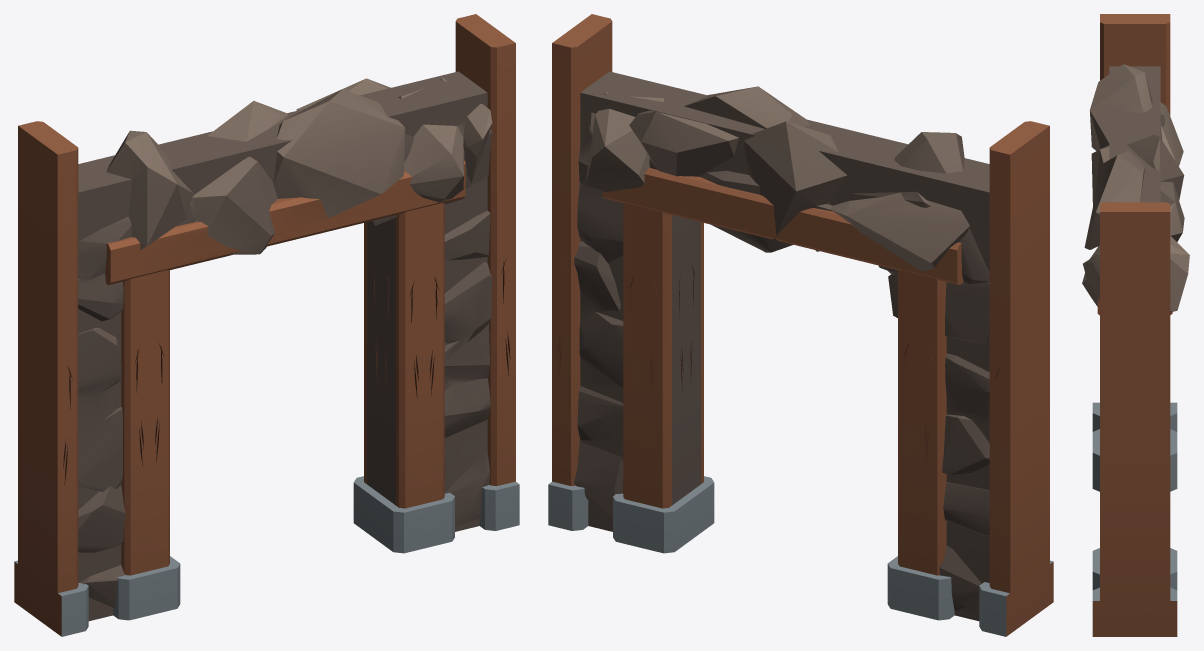
File: wall_cave_doorway_A.glb
The picture shows the model from 3 angles, left to right: view 1: azimuth 30°, elevation 25°; view 2: azimuth 150°, elevation 25°; view 3: azimuth 270°, elevation 25°; orthographic projection. The views are drawn at different scales.
Parts seen in each view (by area): view 1: Item; view 2: Item; view 3: Item.
Part boxes in pixels (x1,y1,x2,y2): Item: [14, 14, 519, 636]; Item: [548, 14, 1053, 636]; Item: [1082, 14, 1189, 636].
Bounding box in the file's own units: 4 × 4 × 0.9201.
1 material, 1 textured.
